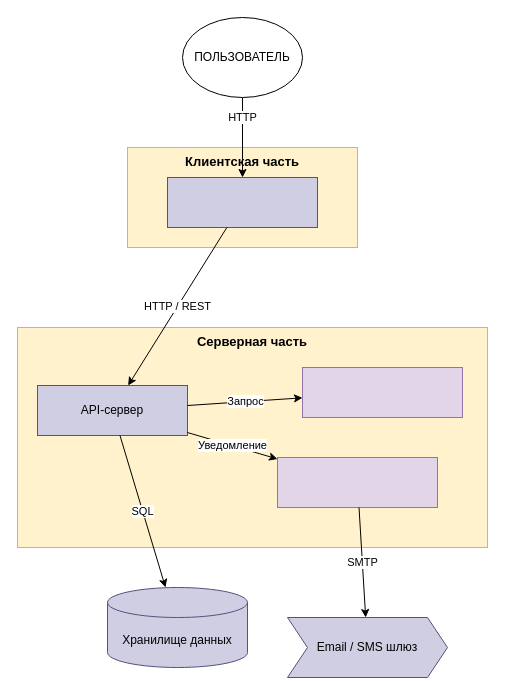
This 505x695 diagram has some shape labels left out. Here are the shapes that lost their labels. From the top down, the centre of each, then its label:
(x=242, y=202): Веб-интерфейс
(x=382, y=392): Сервис аутентификации
(x=357, y=482): Сервис уведомлений
